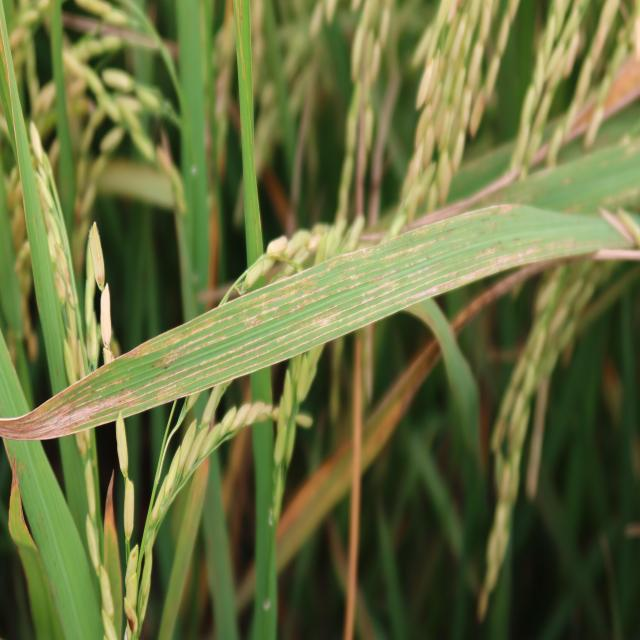Dom soc vi khuan: (0, 204, 629, 440)
